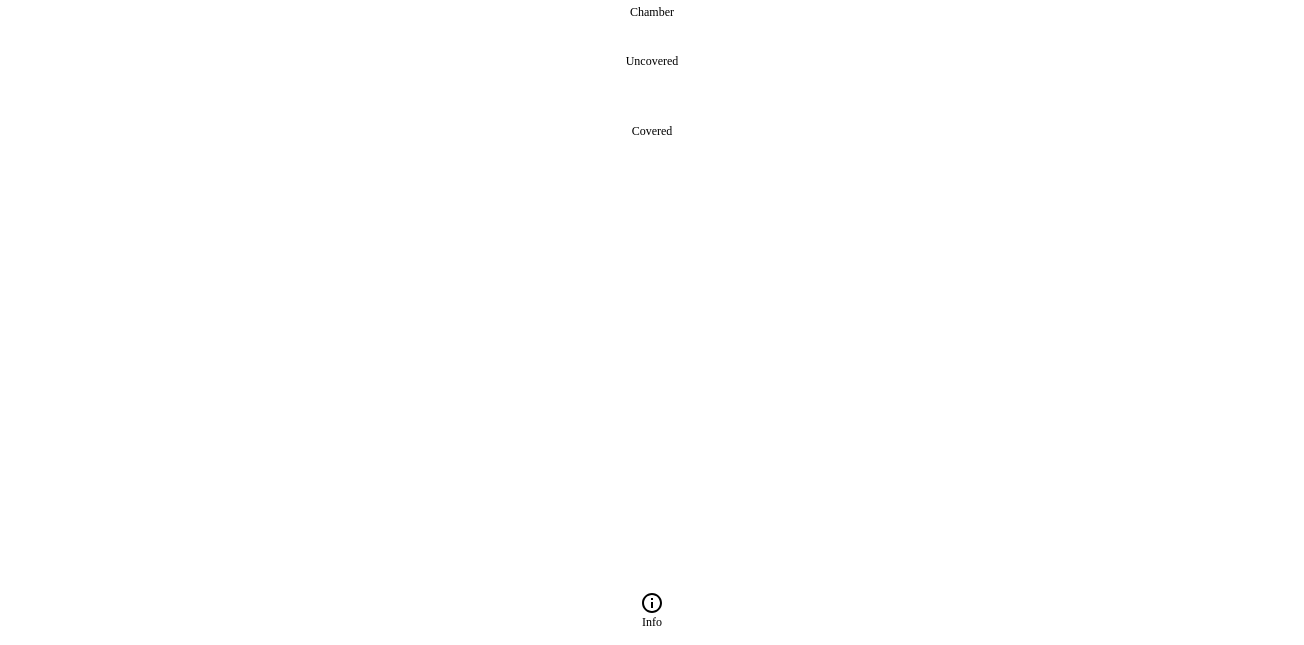
Test: SidePanel depth layers › shows Uncovered and Covered buttons for a flux layer
This screenshot has width=1304, height=645.
Expected: the text with class "slot-label" reads "Chamber", x1=630 y1=5 x2=674 y2=19
Click the button "Covered": (652, 131) x1=12 y1=96 x2=1292 y2=166
(page scrolled)
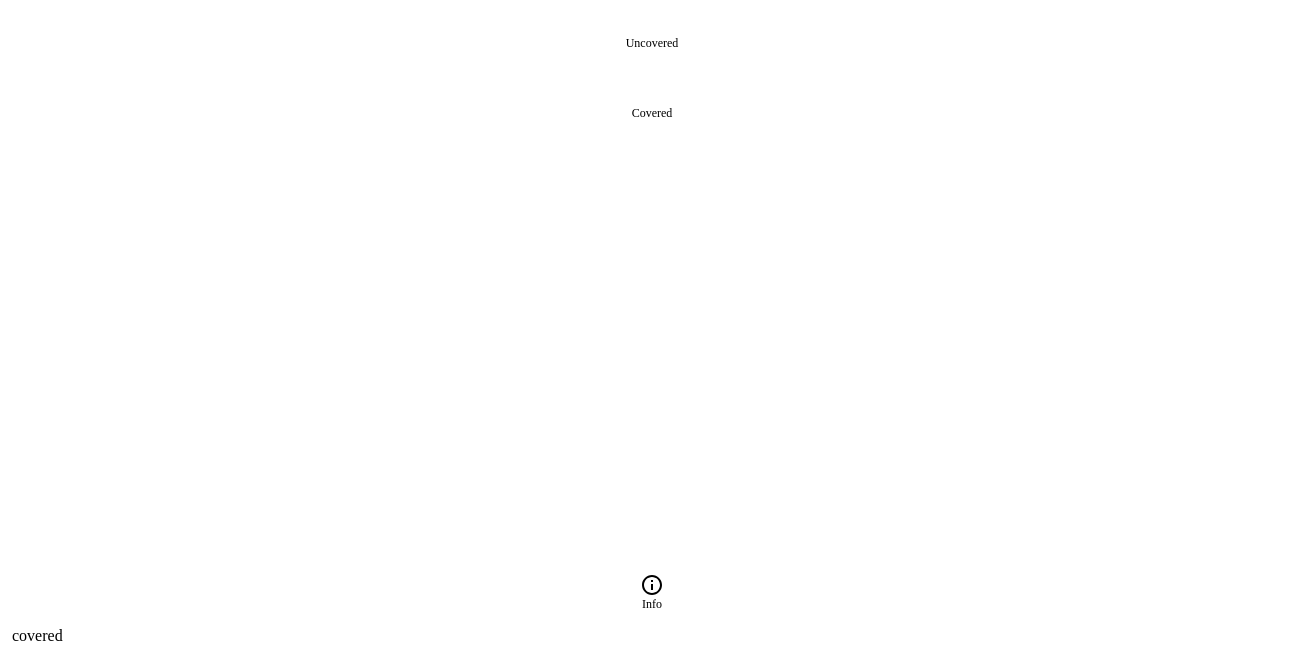
Expected: the text with test id "option" reads "covered", x1=12 y1=627 x2=63 y2=644
